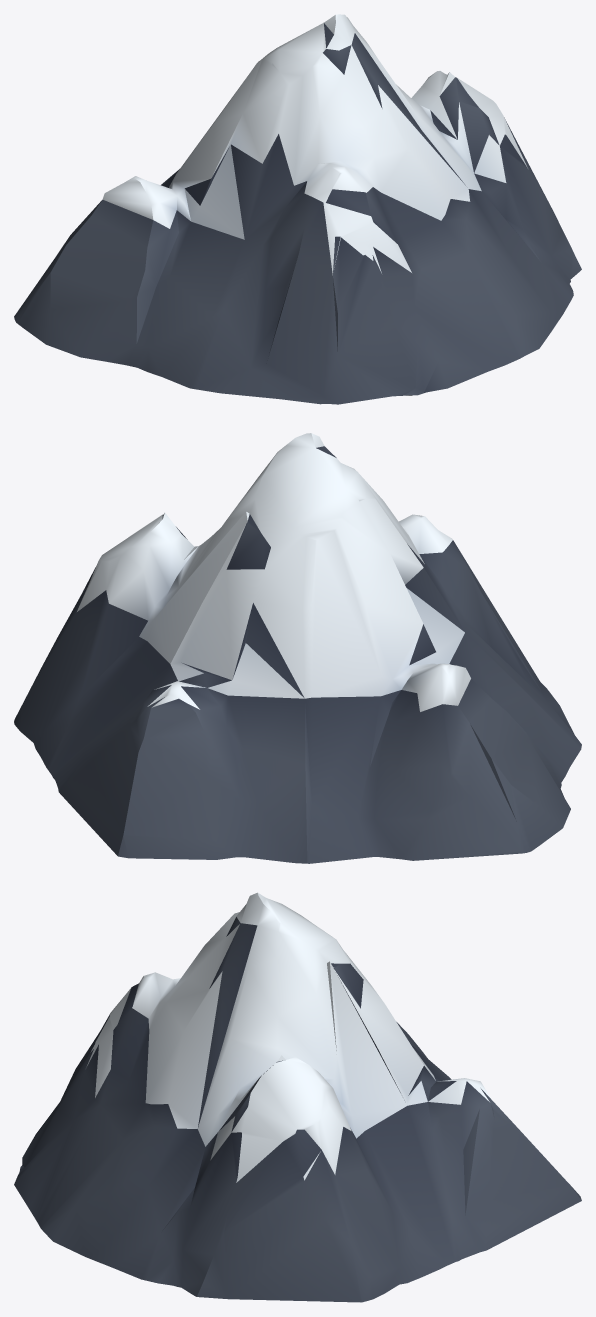
Rendered from frost_backdrop.glb.
3 renders of one model, top to bottom at view 1: azimuth 30°, elevation 25°; view 2: azimuth 150°, elevation 25°; view 3: azimuth 270°, elevation 25°, orthographic. The views are drawn at different scales.
Visible parts, largest first — view 1: PeakA__rock, PeakA__snow; view 2: PeakA__rock, PeakA__snow; view 3: PeakA__rock, PeakA__snow.
Boxes of the visible parts, <box> form: PeakA__rock: <box>14,23,581,404</box>; PeakA__snow: <box>102,14,527,275</box>; PeakA__rock: <box>14,446,581,863</box>; PeakA__snow: <box>77,433,470,711</box>; PeakA__rock: <box>14,917,581,1302</box>; PeakA__snow: <box>86,892,490,1182</box>.
Size of the model in its own units: 40 by 22.59 by 38.89.
